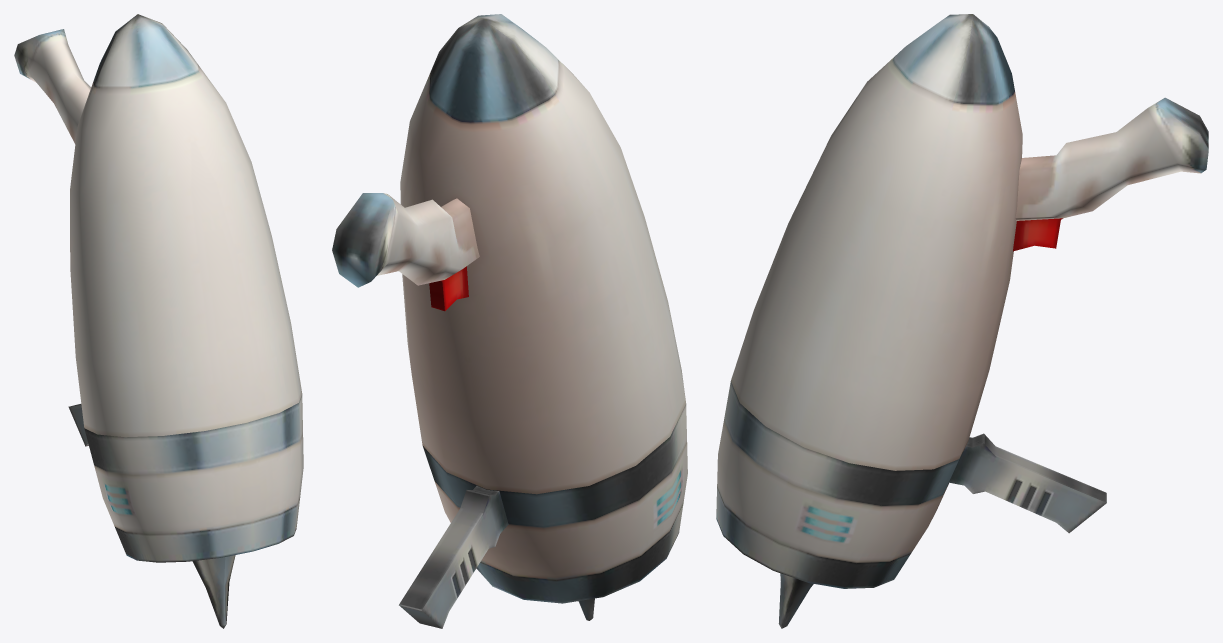
3 views of the same model, side by side, from view 1: azimuth 30°, elevation 25°; view 2: azimuth 150°, elevation 25°; view 3: azimuth 270°, elevation 25° (orthographic). The views are drawn at different scales.
Visible parts, largest first — view 1: mGun; view 2: mGun; view 3: mGun.
Boxes of the visible parts, bbox=[...] form: mGun: bbox=[14, 14, 303, 628]; mGun: bbox=[332, 14, 687, 628]; mGun: bbox=[716, 14, 1208, 628].
Size of the model in its own units: 0.1291 by 0.3552 by 0.2578.
1 material, 1 textured.
